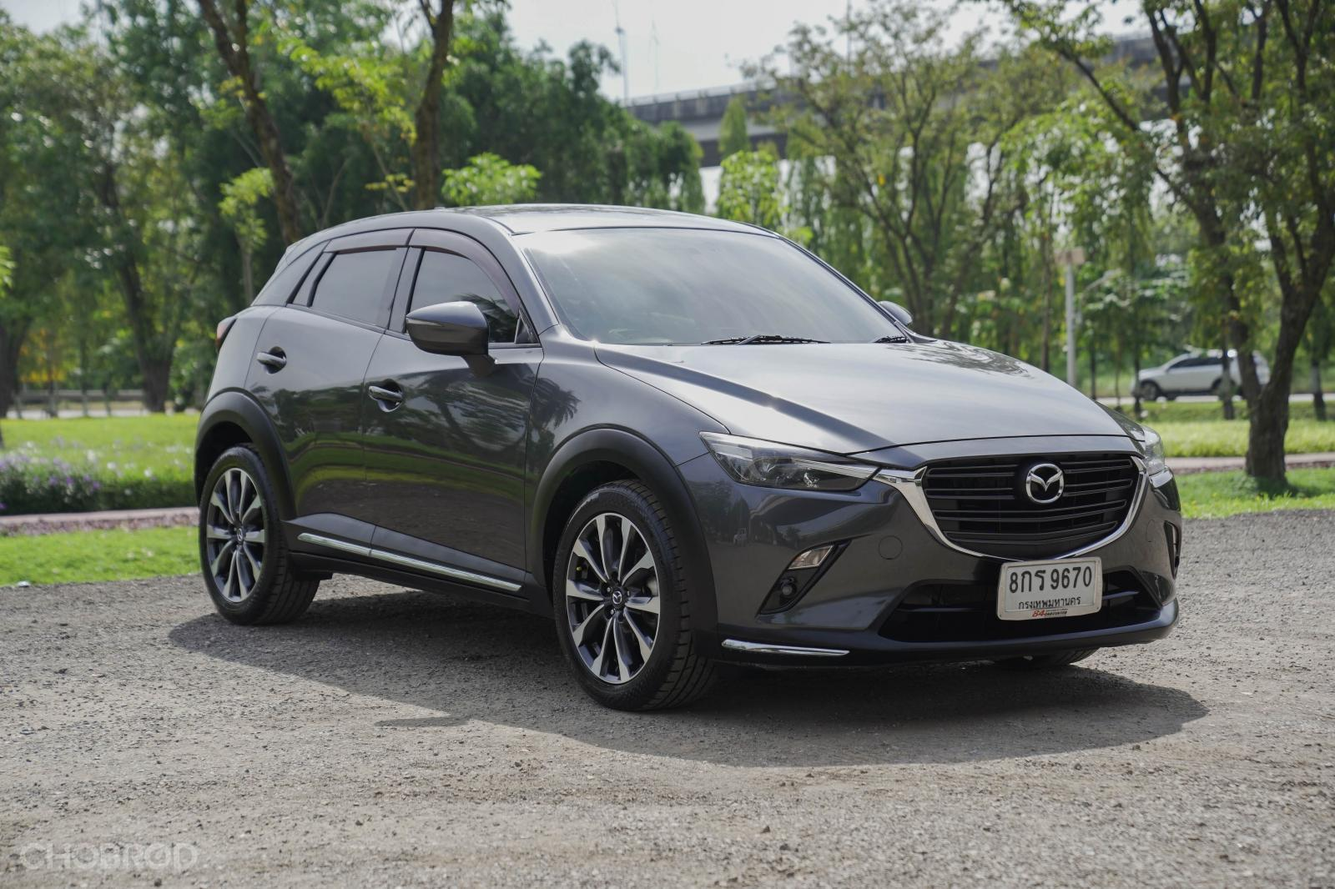license-plate: (989, 553, 1113, 629)
